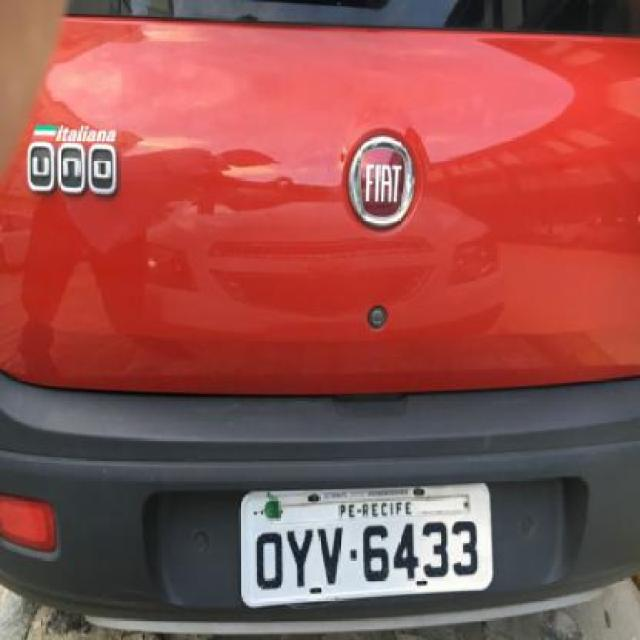old_plate: (232, 475, 510, 615)
